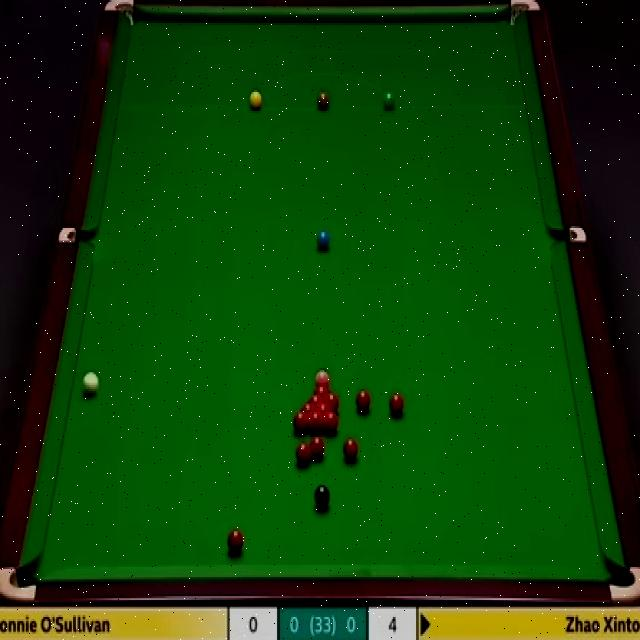black-ball: (314, 482, 330, 512)
blue-ball: (316, 229, 330, 254)
brown-ball: (316, 92, 331, 111)
green-ball: (382, 90, 396, 113)
pink-ball: (314, 368, 330, 384)
red-ball: (227, 527, 244, 557), (388, 392, 406, 419), (295, 441, 312, 466), (355, 388, 371, 414), (343, 438, 359, 462), (323, 411, 339, 434), (292, 412, 307, 434), (310, 436, 324, 459), (309, 410, 323, 432), (326, 393, 339, 413), (306, 393, 326, 403), (314, 384, 332, 395), (316, 402, 333, 412), (300, 402, 316, 412)
white-ball: (82, 371, 100, 402)
yellow-ball: (248, 90, 263, 112)
